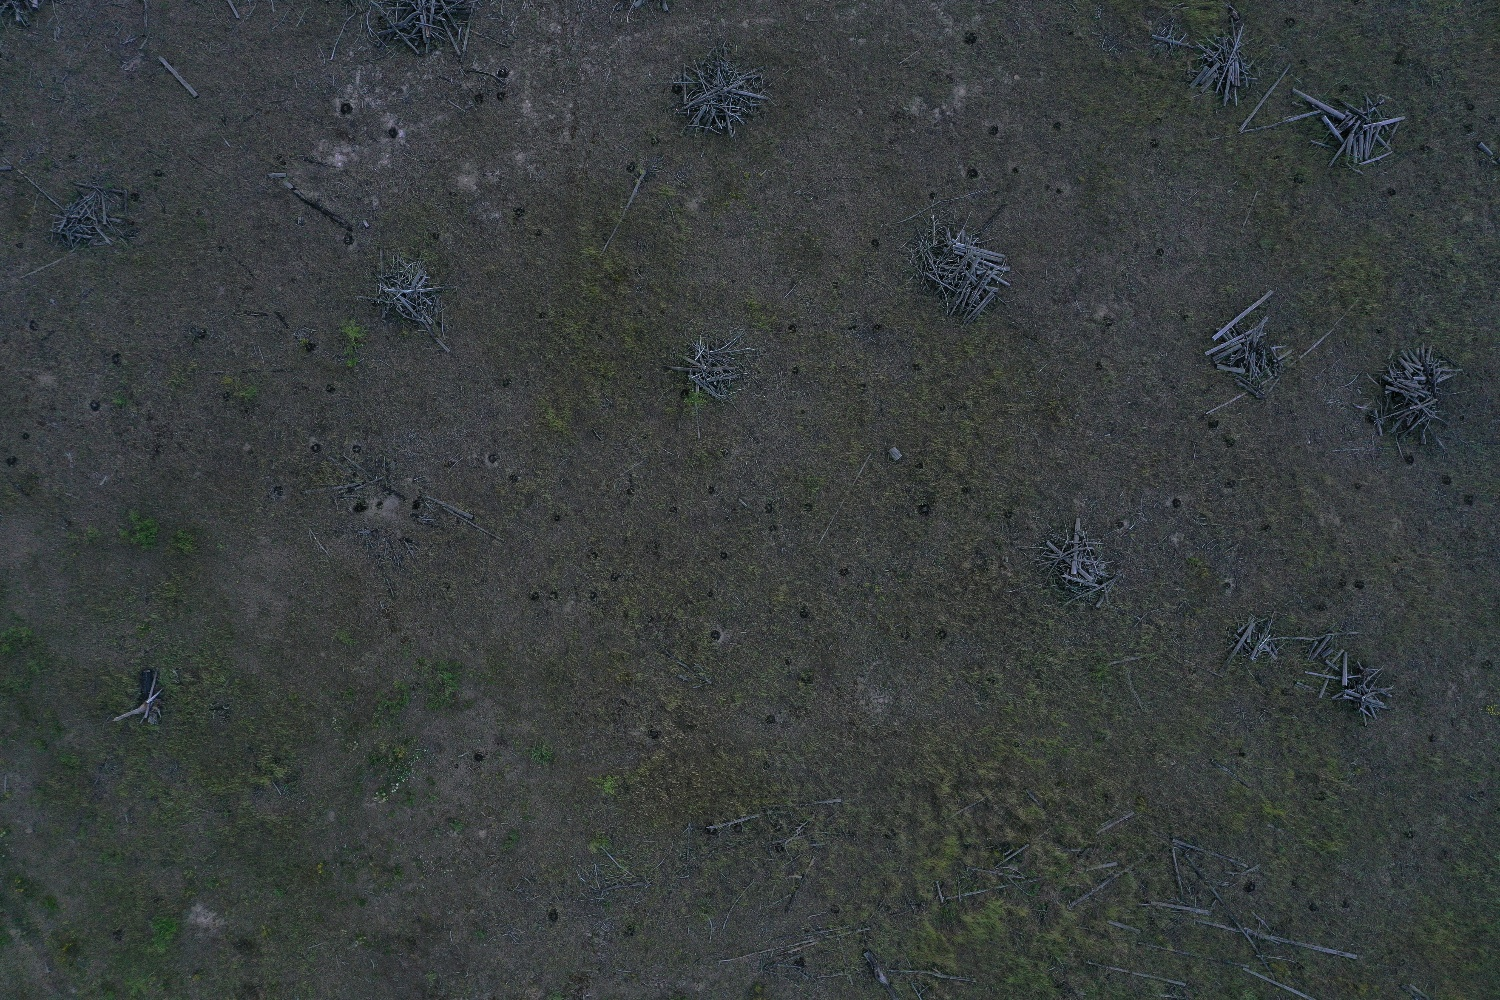branches: (900, 213, 1013, 327), (1356, 343, 1464, 458), (1289, 81, 1407, 172), (672, 46, 779, 140), (1204, 287, 1290, 400), (1294, 633, 1396, 727), (1038, 517, 1124, 608), (371, 251, 456, 331), (663, 331, 757, 404), (360, 1, 481, 57), (48, 183, 138, 253), (1187, 23, 1261, 109), (1219, 610, 1285, 673)
